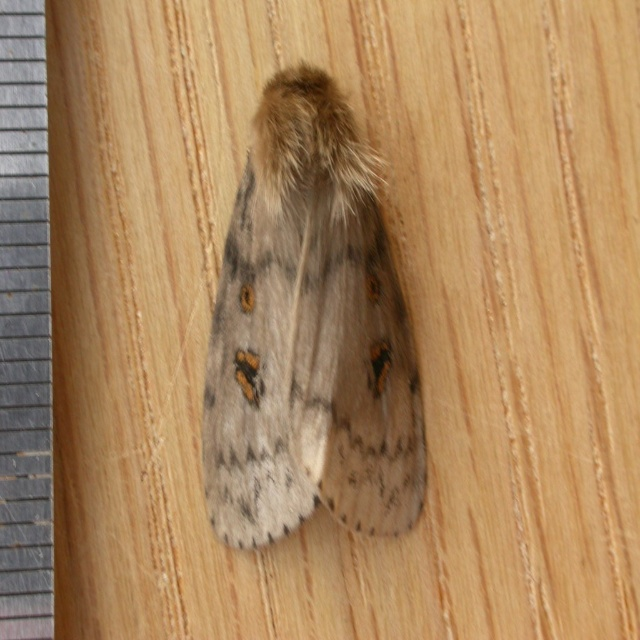Moths and butterflies: (200, 55, 430, 551)
